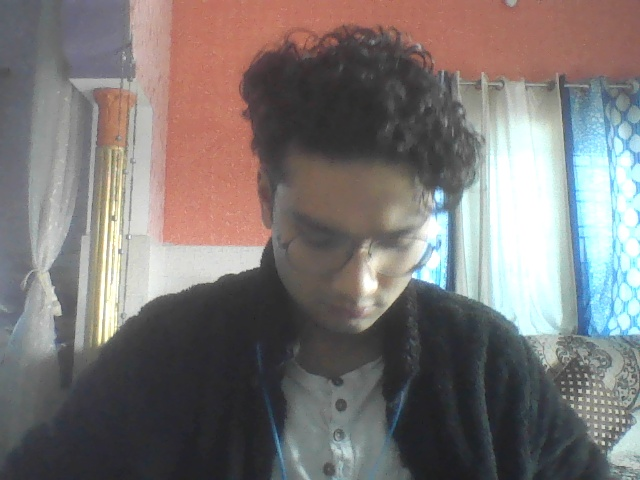real: (243, 82, 436, 355)
